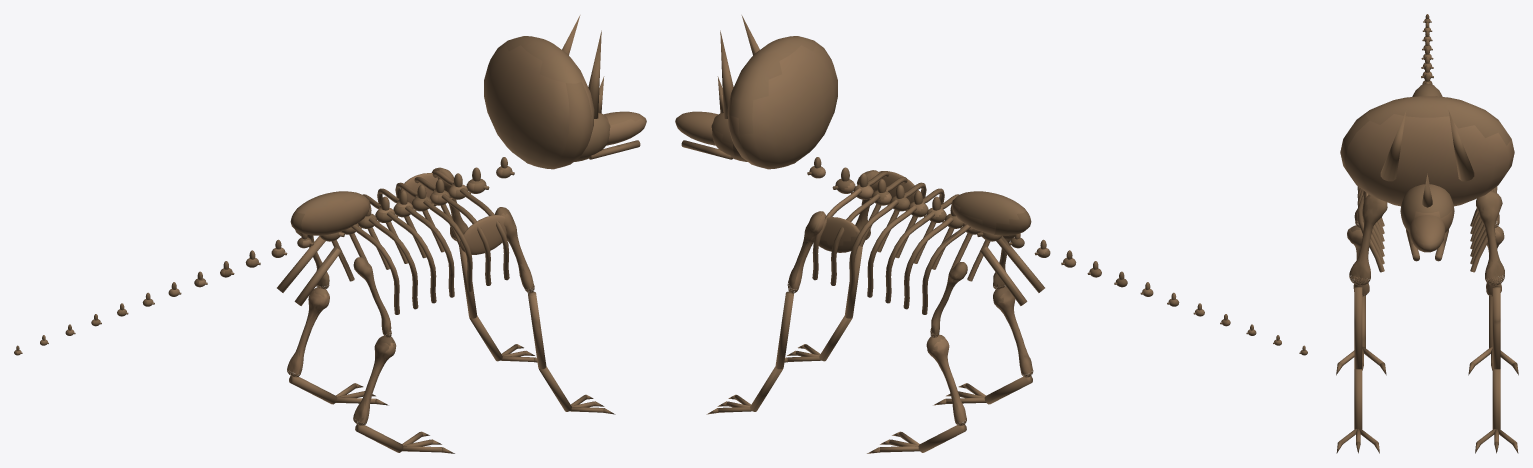
File: Skeleton_Ceratops.glb
3 views of the same model, side by side, from view 1: azimuth 30°, elevation 25°; view 2: azimuth 150°, elevation 25°; view 3: azimuth 270°, elevation 25° (orthographic).
Visible parts, largest first — view 1: Skeleton_Ceratops; view 2: Skeleton_Ceratops; view 3: Skeleton_Ceratops.
Part boxes in pixels (x1,y1,x2,y2): Skeleton_Ceratops: [14, 15, 646, 453]; Skeleton_Ceratops: [675, 15, 1307, 453]; Skeleton_Ceratops: [1336, 14, 1518, 453].
Size of the model in its own units: 1.21 by 0.65 by 0.304.
1 material, 1 textured.
